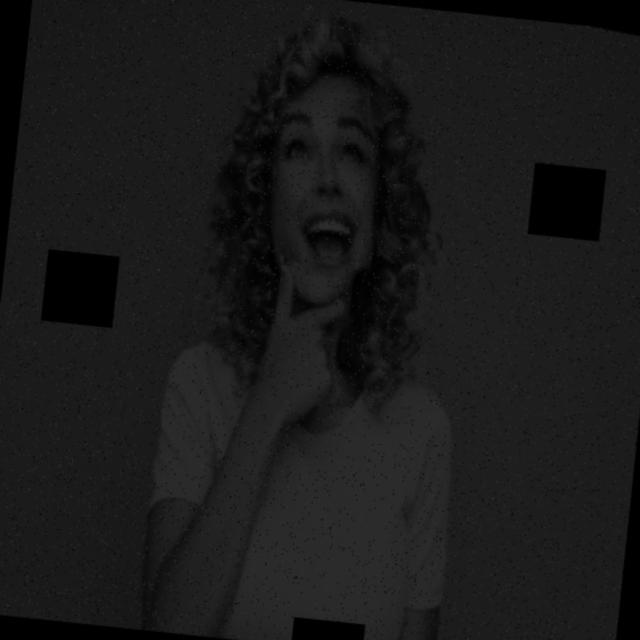Happy: (205, 79, 435, 327)
